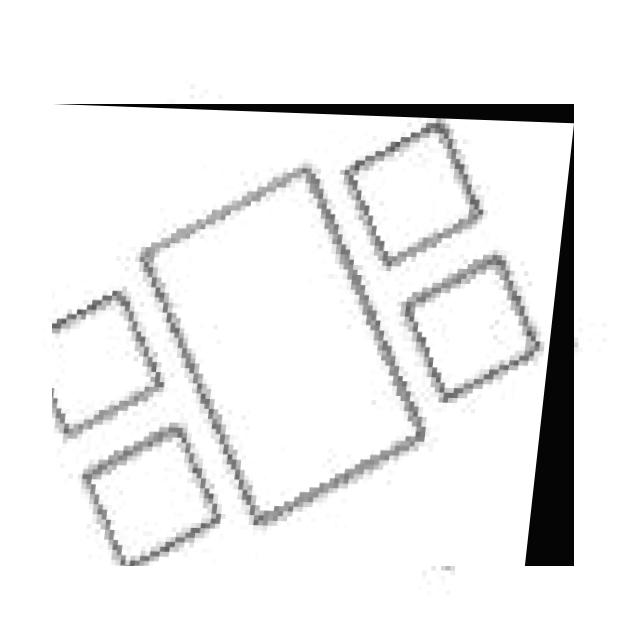table: (52, 104, 574, 566)
